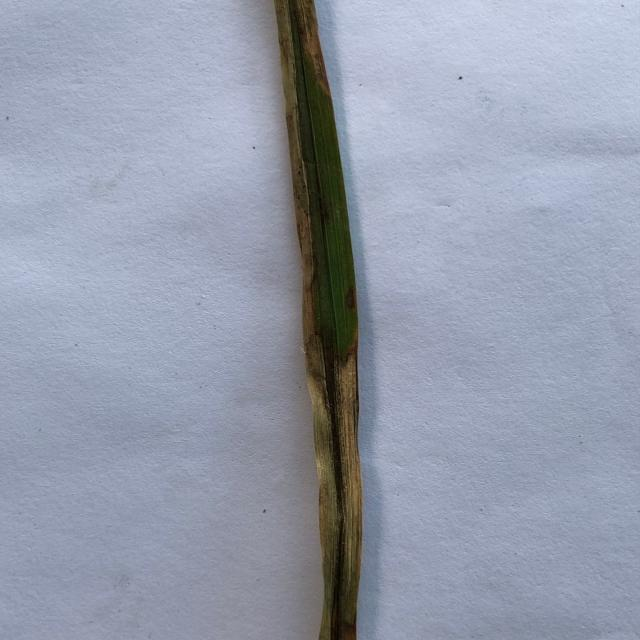Leaf Blight: (289, 348, 371, 640), (276, 105, 326, 369), (250, 0, 350, 102)
